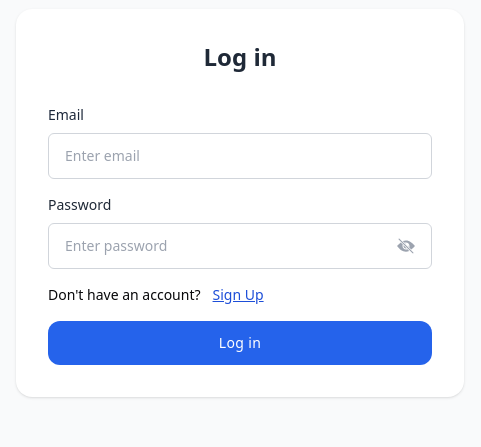
Login Page › should show validation errors for empty fields
Click the button "Log in": (240, 343) [48,321,432,365]
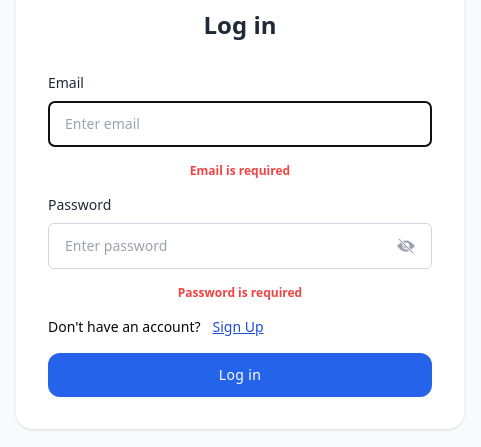
Expected: the text "Email is required" is shown, [190,162,290,179]
Expected: the text "Password is required" is shown, [178,284,302,301]
